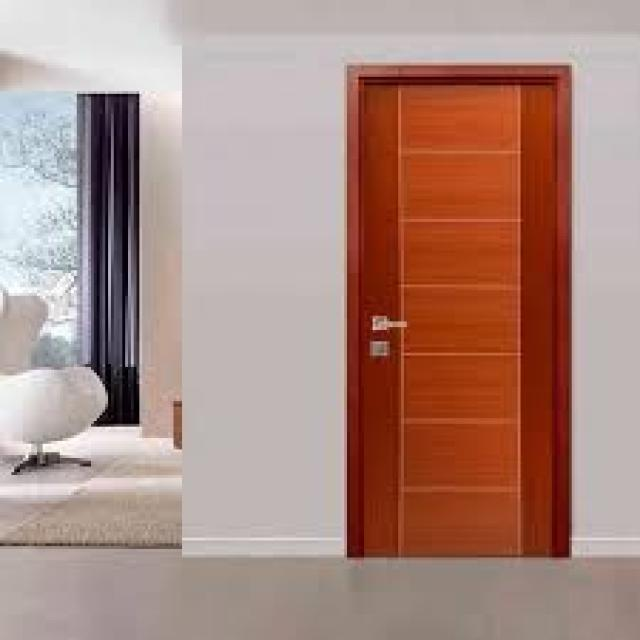door: (347, 64, 572, 559)
